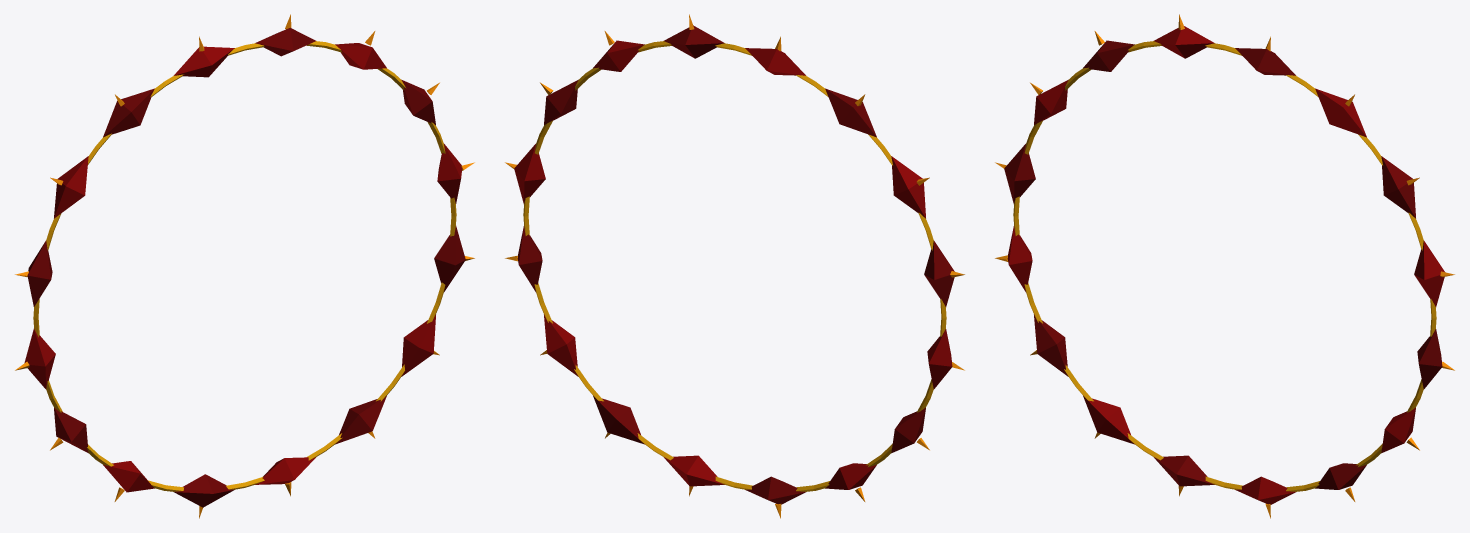
File: conductor_ring.glb
3 renders of one model, left to right at view 1: azimuth 30°, elevation 25°; view 2: azimuth 150°, elevation 25°; view 3: azimuth 330°, elevation 25°, orthographic.
Parts seen in each view (by area): view 1: conductor_ring; view 2: conductor_ring; view 3: conductor_ring.
Part boxes in pixels (x1,y1,x2,y2): conductor_ring: (15,14,474,518); conductor_ring: (505,14,964,518); conductor_ring: (995,14,1454,518).
Bounding box in the file's own units: 52.96 × 52.96 × 3.33.
